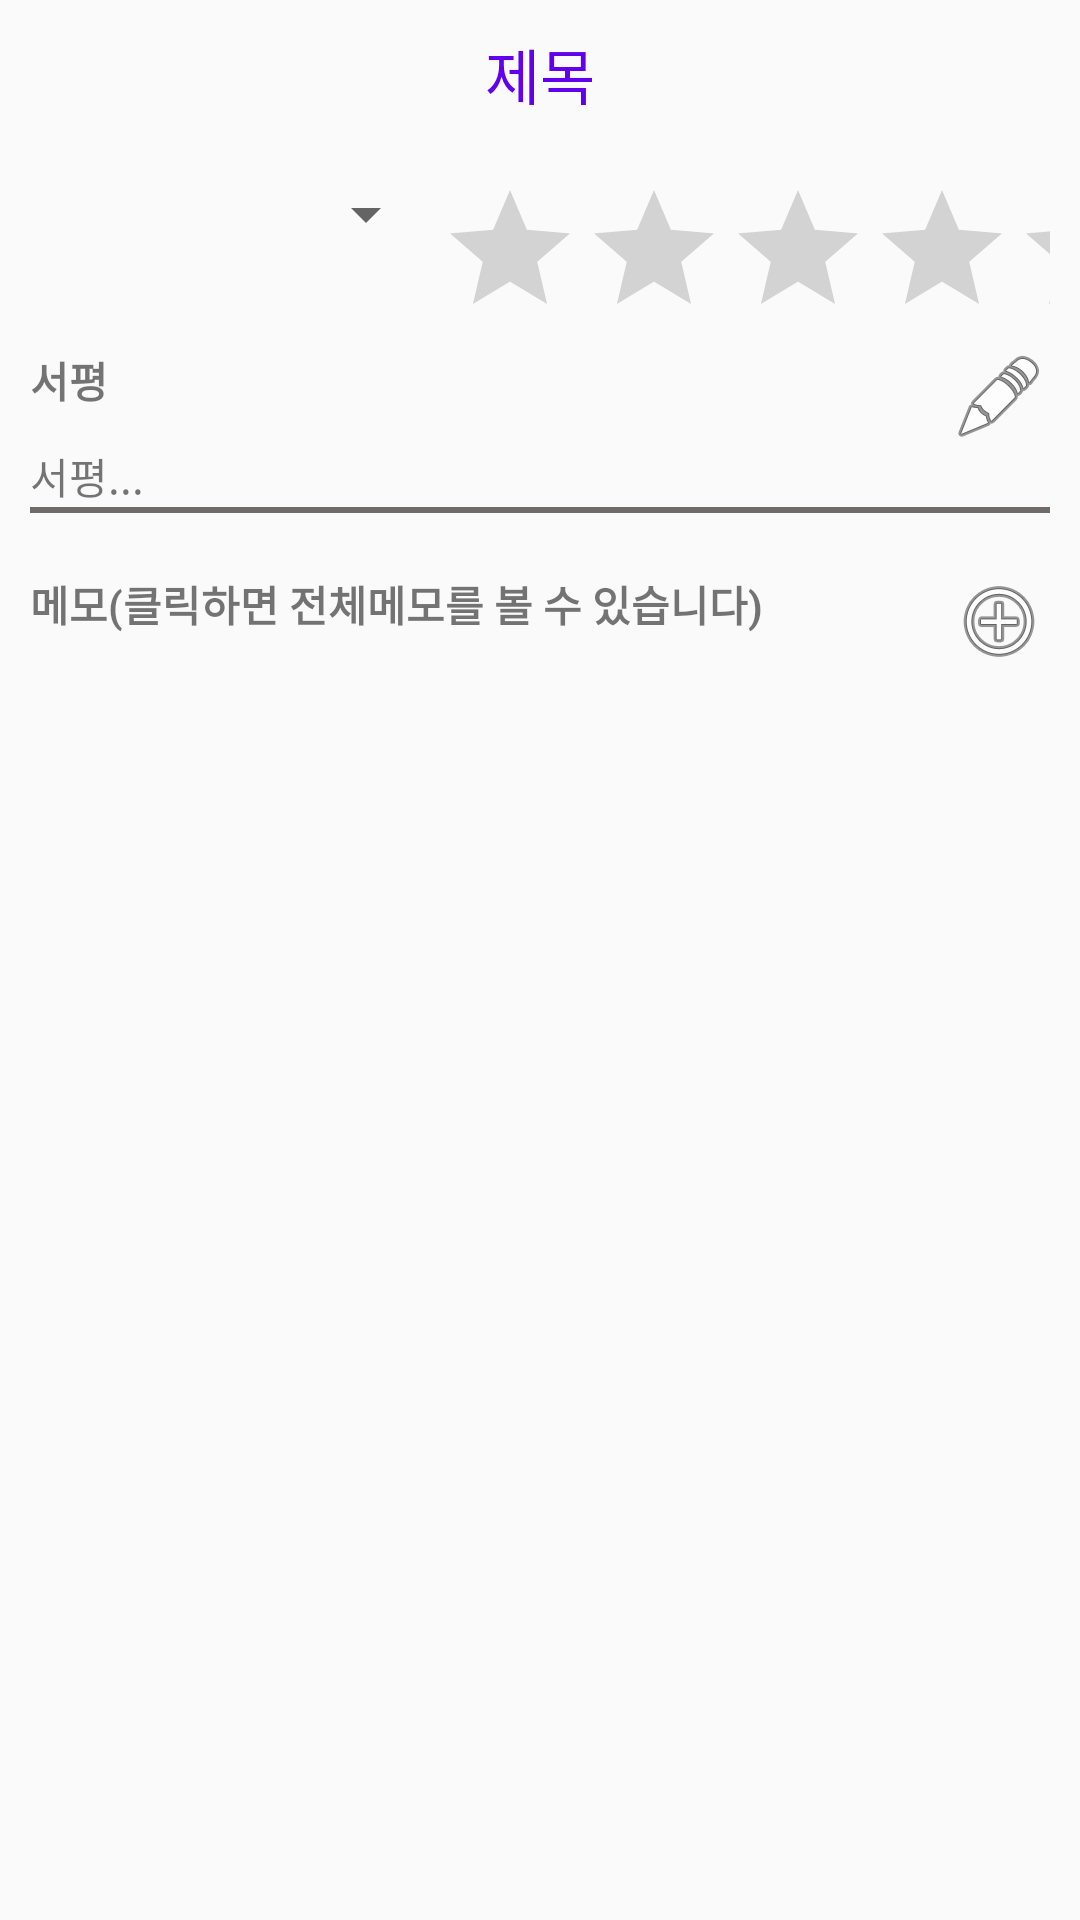

Icon bounding boxes for this 1080x1920 phone screenshot, format bbox(x1, y1, x2, y2):
add: bbox(963, 586, 1035, 657)
edit: bbox(958, 356, 1039, 437)
